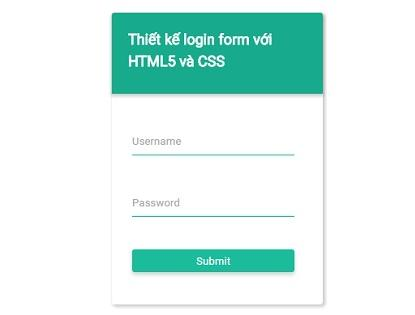button: (131, 248, 296, 273)
field: (129, 133, 297, 158), (131, 195, 296, 218)
